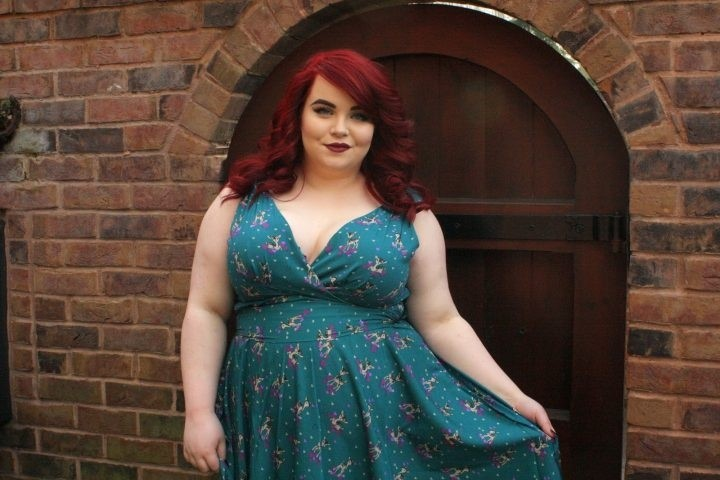face_no_mask: (294, 53, 378, 170)
